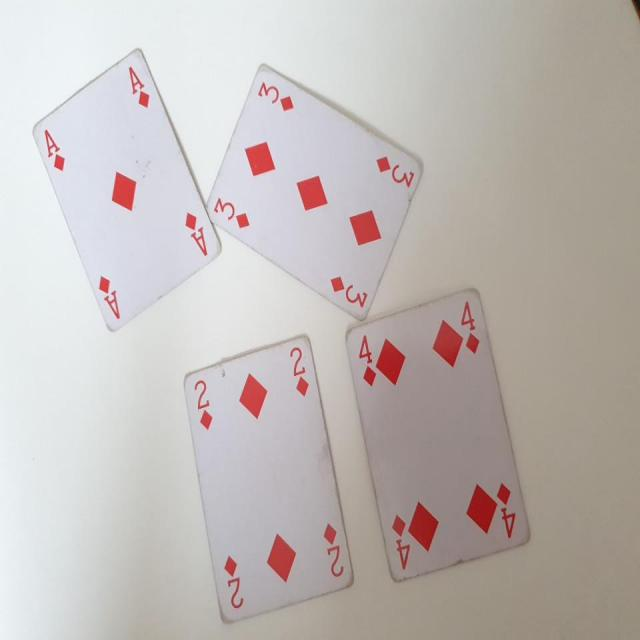2 Diamonds: (178, 335, 355, 626)
3 Diamonds: (204, 59, 421, 318)
4 Diamonds: (345, 286, 536, 587)
A Diamonds: (22, 47, 223, 344)
